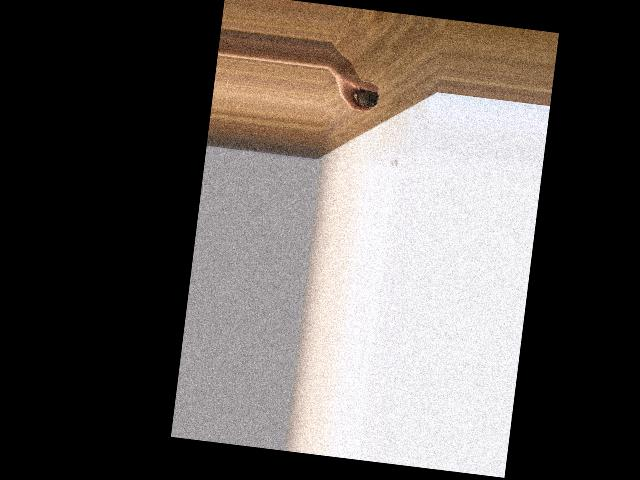beet: (355, 78, 381, 109)
